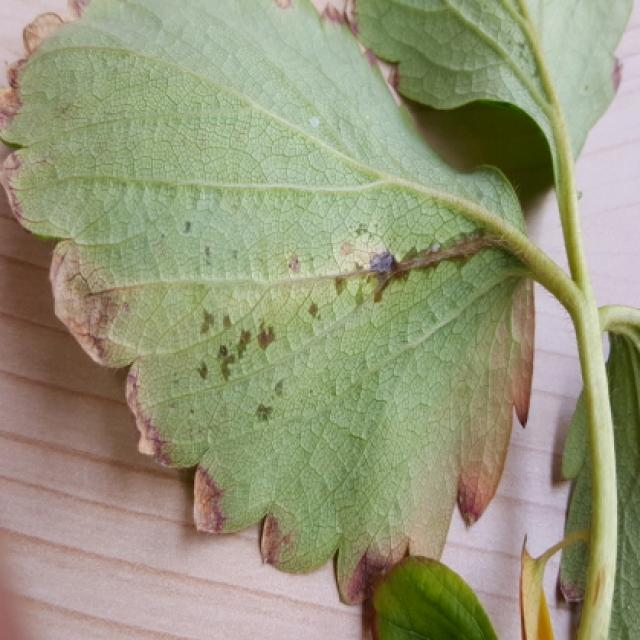Angular Leafspot: (3, 0, 539, 605)
